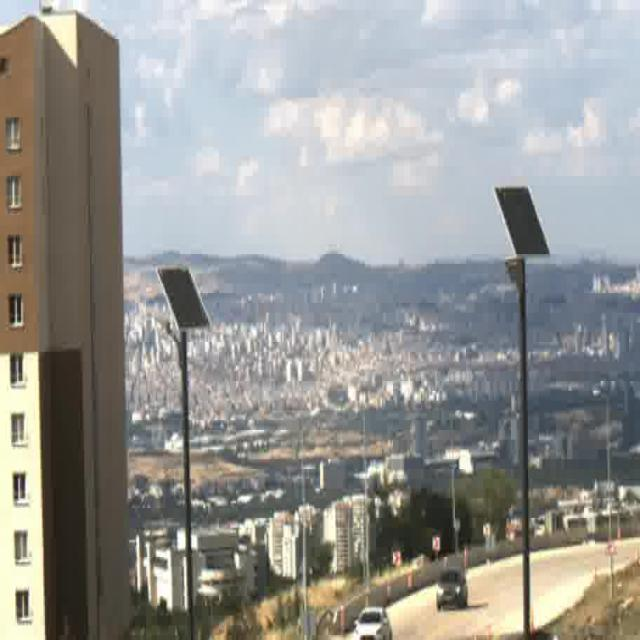Car: (352, 603, 393, 640), (434, 572, 470, 612)
